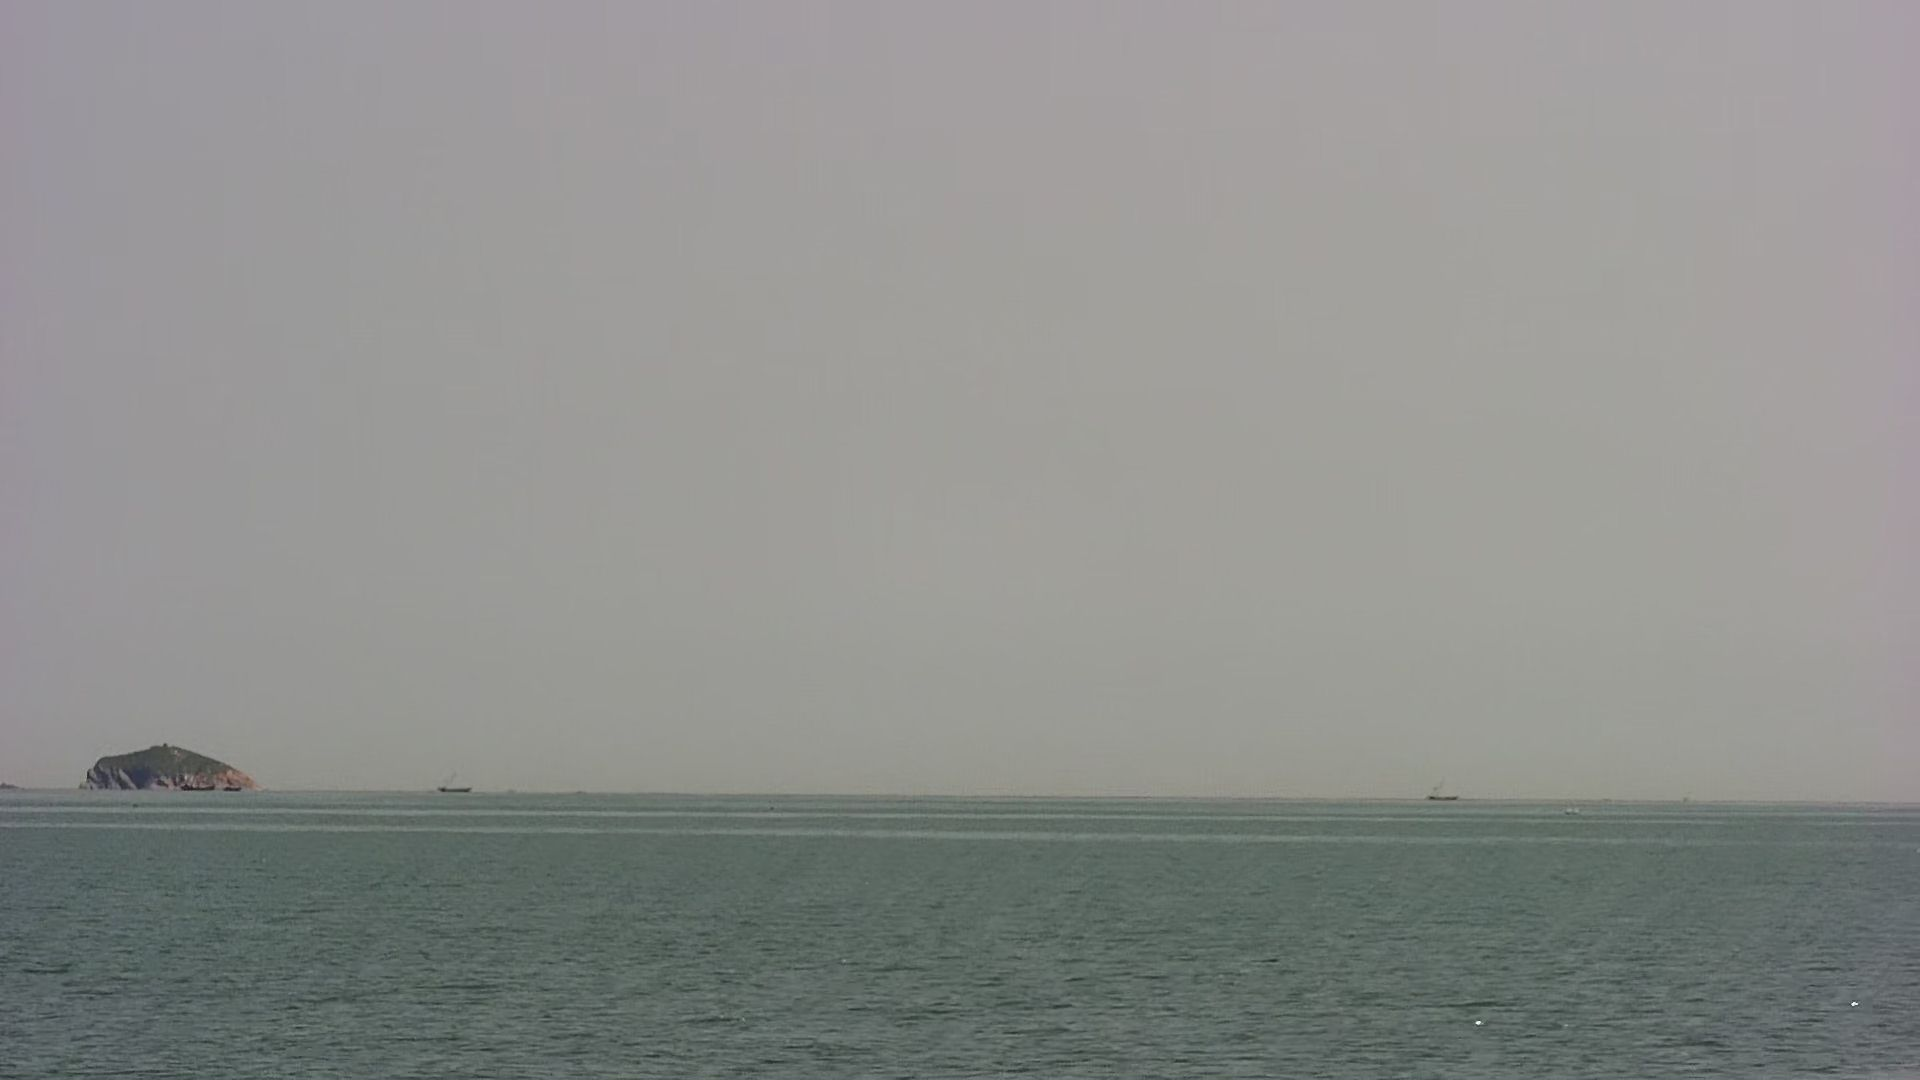rock: (73, 738, 262, 794)
